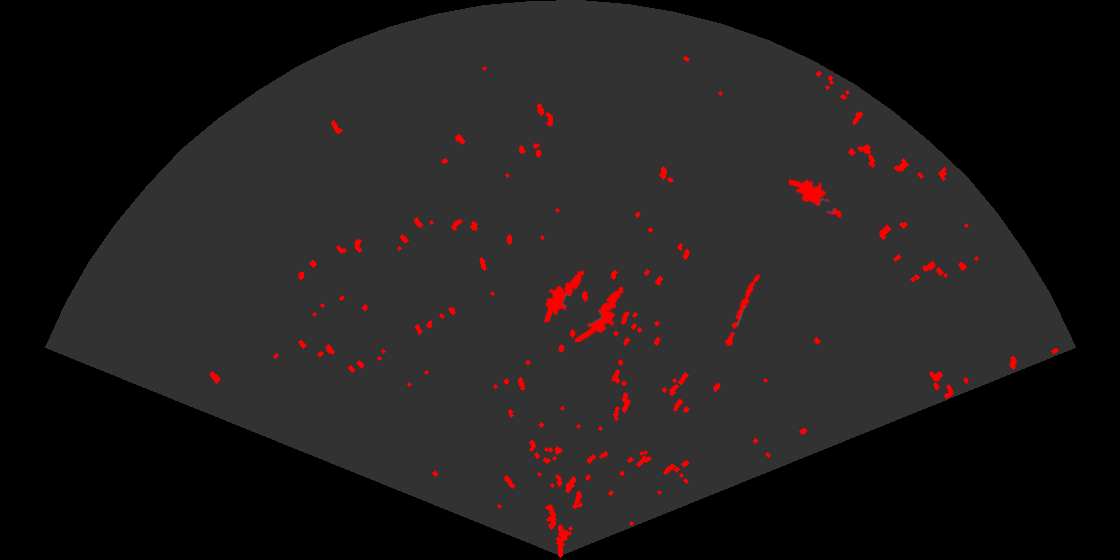chain: (723, 272, 762, 349)
frogman: (575, 285, 626, 342), (542, 260, 587, 322), (789, 177, 844, 219)
